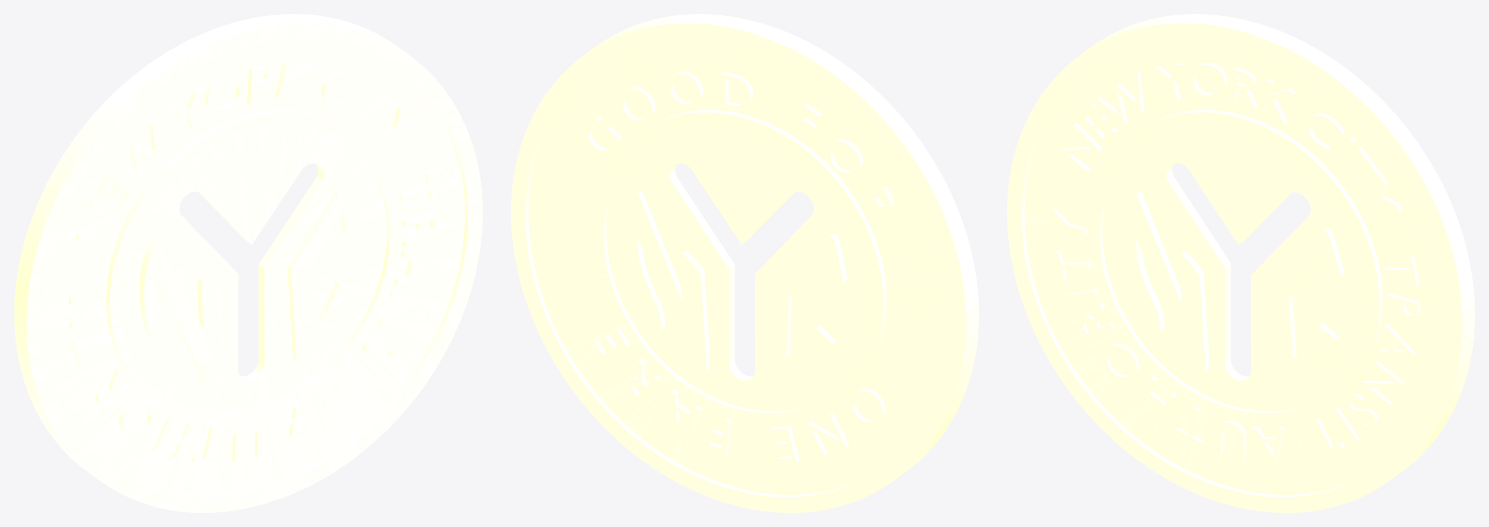
Rendered from coiniie.gltf.
3 views of the same model, side by side, from view 1: azimuth 30°, elevation 25°; view 2: azimuth 150°, elevation 25°; view 3: azimuth 330°, elevation 25° (orthographic).
Parts seen in each view (by area): view 1: trial.001; view 2: trial.001; view 3: trial.001.
Part boxes in pixels (x1,y1,x2,y2): trial.001: (14,14,482,512); trial.001: (511,14,978,512); trial.001: (1007,14,1474,512).
Size of the model in its own units: 65.64 by 65.63 by 3.53.
1 material, 1 textured.
